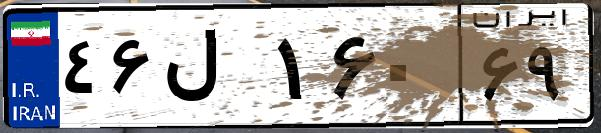0: (385, 28, 445, 110)
1: (270, 28, 330, 110)
4: (57, 26, 110, 100)
6: (330, 28, 385, 110), (475, 38, 525, 113), (110, 28, 158, 98)
9: (525, 38, 570, 115)
ل: (158, 20, 270, 120)
